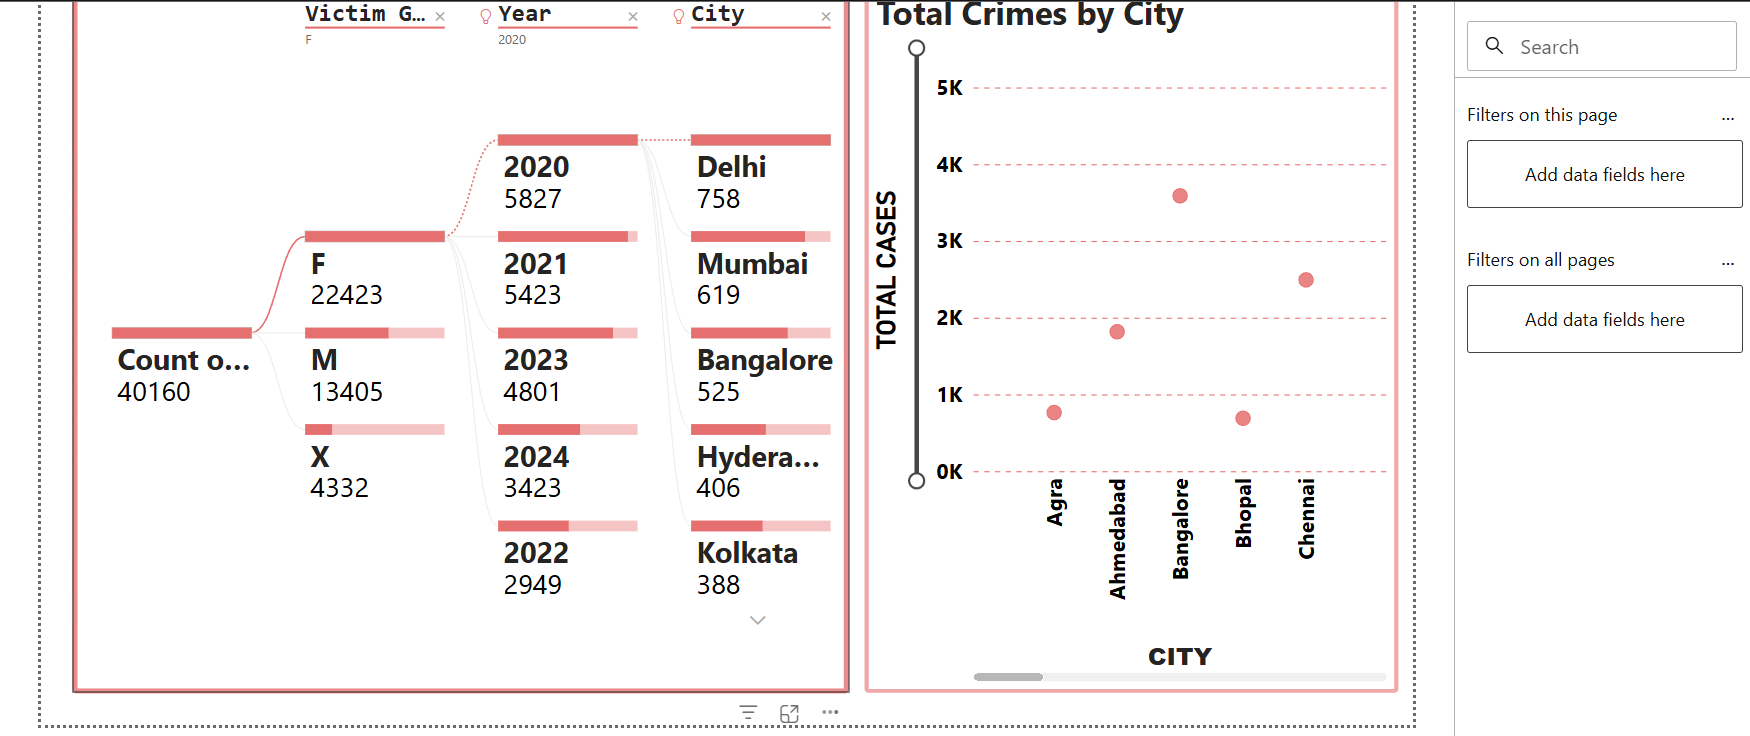

What the dashboard file says about the page in this screenshot:
{"tool":"powerbi","page":{"name":"Page 3","canvas":[1280,720],"ordinal":2},"visuals":[{"type":"decompositionTreeVisual","fields":{"Analyze":["CountNonNull(cleaned_crime_dataset.Crime Domain)"],"ExplainBy":["cleaned_crime_dataset.Victim Gender","cleaned_crime_dataset.Year","cleaned_crime_dataset.City"]},"box":[30,26,738,554],"z":0},{"type":"scatterChart","fields":{"X":["cleaned_crime_dataset.City"],"Y":["cleaned_crime_dataset.Total Crimes"]},"box":[768,28,498,662],"z":1000},{"type":"advancedSlicerVisual","fields":{"Values":["cleaned_crime_dataset.Victim Gender"]},"box":[44,580,724,110],"z":1001}]}

Visuals, with their boxes on the page's 1280x720 design canvas (x1, y1, x2, y2). These are canvas units, not pixel positions in the 1750x736 screenshot, which may show the page scaled, cropped or inside an application window:
decompositionTreeVisual - CountNonNull(cleaned_crime_dataset.Crime Domain) x cleaned_crime_dataset.Victim Gender: box(30, 26, 768, 580)
scatterChart - cleaned_crime_dataset.City x cleaned_crime_dataset.Total Crimes: box(768, 28, 1266, 690)
advancedSlicerVisual - cleaned_crime_dataset.Victim Gender: box(44, 580, 768, 690)
